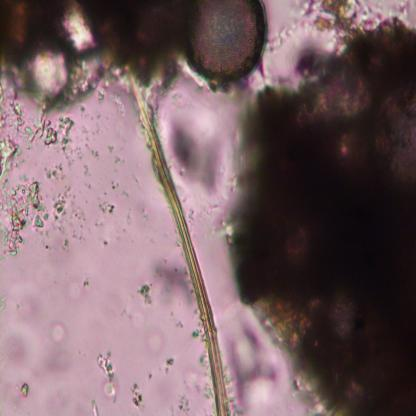Background material: (231, 22, 416, 413), (0, 0, 182, 105), (166, 98, 228, 197), (0, 138, 50, 258), (223, 316, 284, 408), (2, 286, 45, 370), (50, 193, 93, 254), (315, 1, 365, 43), (153, 261, 193, 308), (97, 349, 121, 405), (78, 118, 102, 162), (0, 102, 32, 134), (41, 152, 68, 184), (144, 328, 170, 360), (100, 198, 115, 239), (39, 120, 58, 148), (58, 115, 72, 152), (135, 282, 154, 309), (130, 380, 146, 410), (67, 272, 80, 304), (51, 320, 66, 346), (108, 144, 120, 171), (179, 389, 191, 414), (76, 275, 93, 289), (108, 177, 120, 192), (89, 398, 99, 415), (20, 382, 30, 398), (165, 356, 176, 368), (21, 383, 29, 397)
Diatom: (183, 0, 268, 88)
Microfibre: (126, 69, 232, 415)
